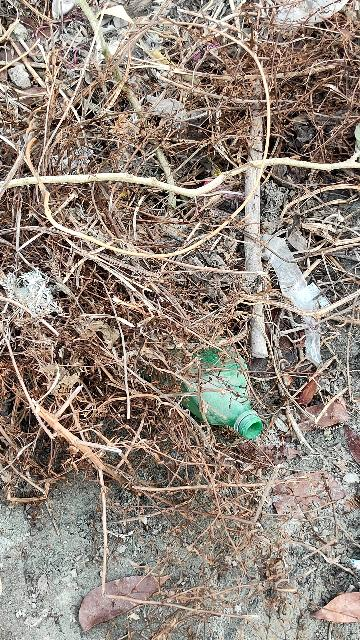bottle: (161, 313, 269, 448)
